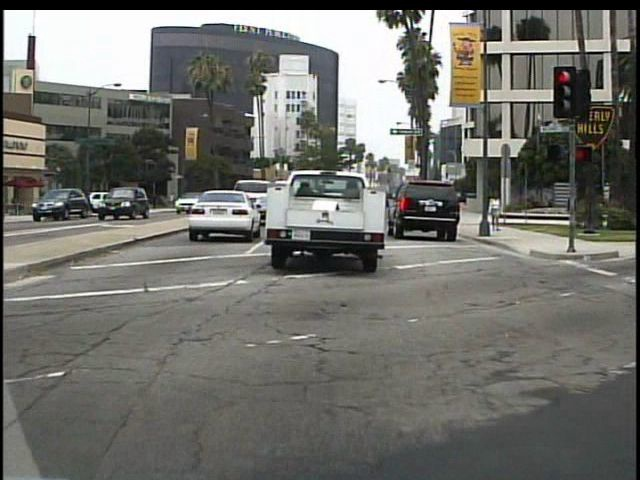person: (486, 188, 504, 238)
